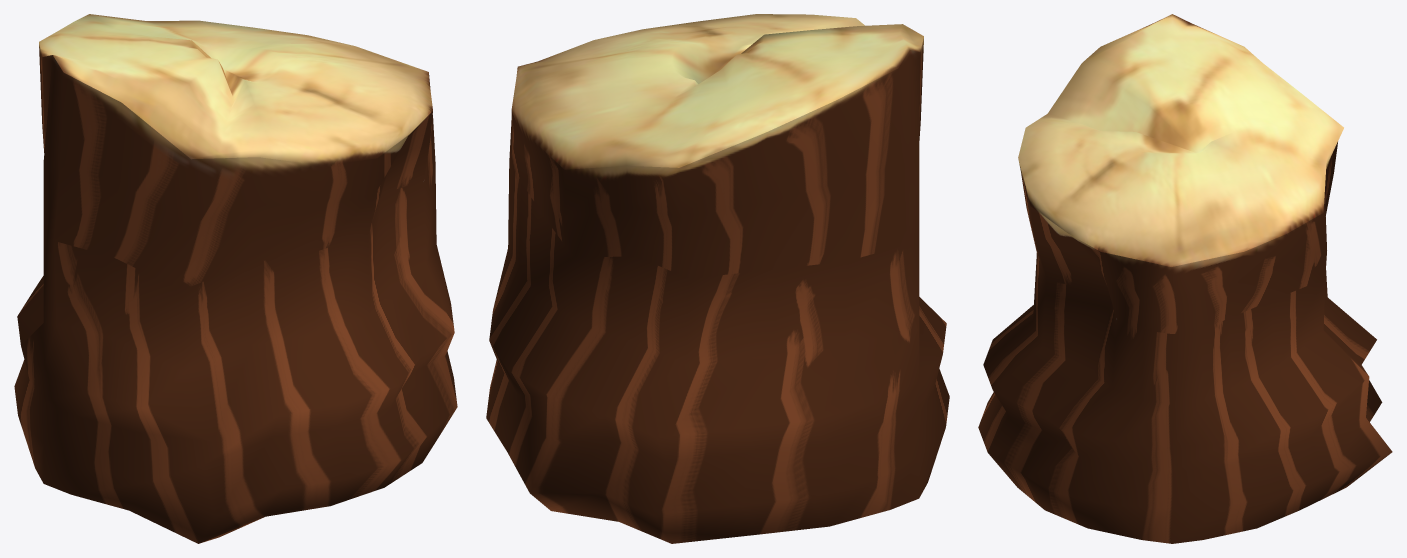
Rendered from stump.fbx.
The picture shows the model from 3 angles, left to right: view 1: azimuth 30°, elevation 25°; view 2: azimuth 150°, elevation 25°; view 3: azimuth 270°, elevation 25°; orthographic projection. The views are drawn at different scales.
Parts seen in each view (by area): view 1: pCylinder1; view 2: pCylinder1; view 3: pCylinder1.
Part boxes in pixels (<box>): pCylinder1: <box>14,14,457,543</box>; pCylinder1: <box>486,14,949,543</box>; pCylinder1: <box>978,14,1392,543</box>.
Size of the model in its own units: 5.52 by 6.21 by 5.93.
